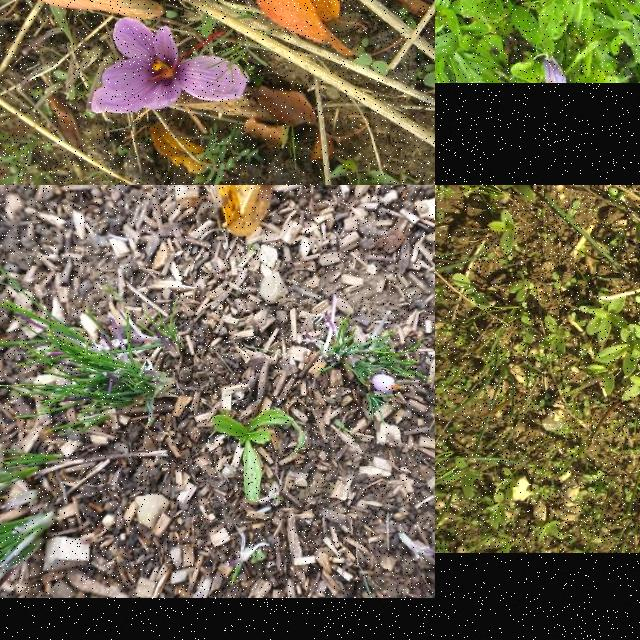flower: (92, 18, 248, 114), (372, 374, 400, 394)
